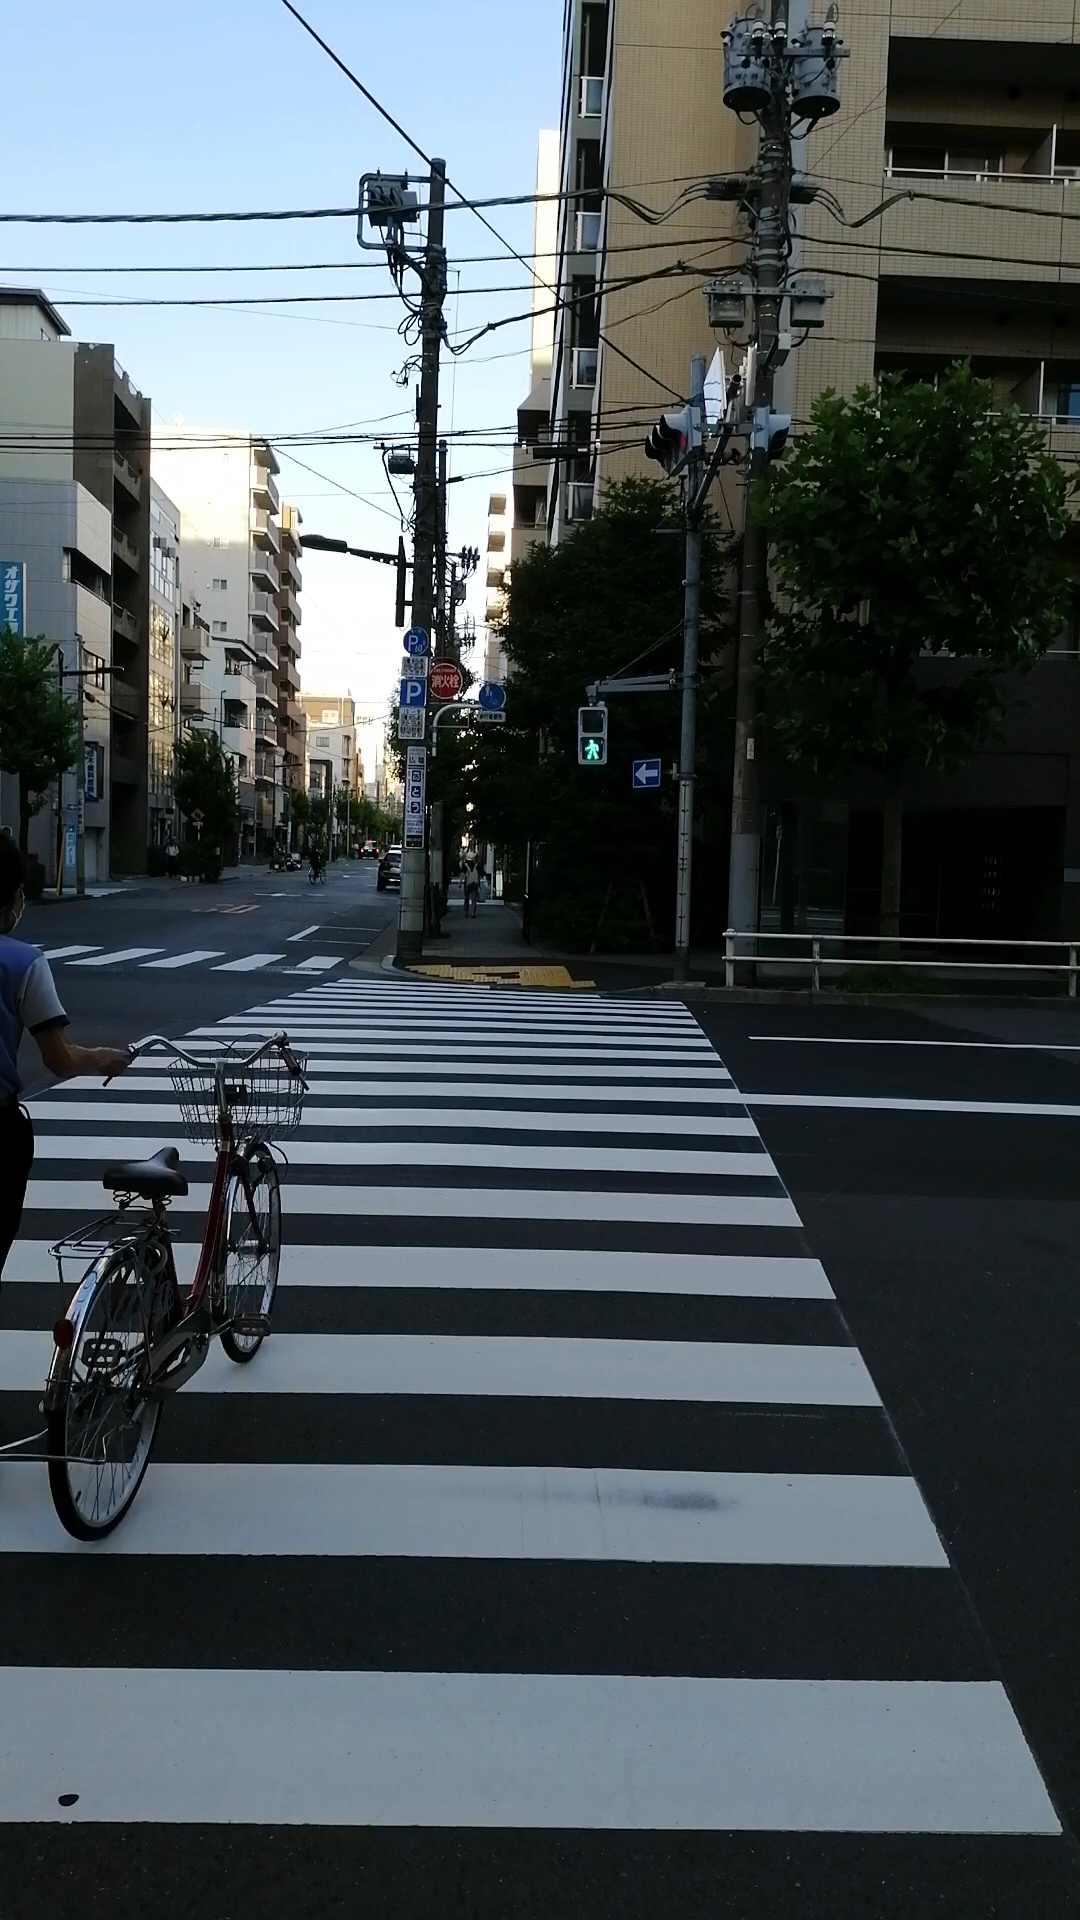green: (572, 703, 608, 767)
